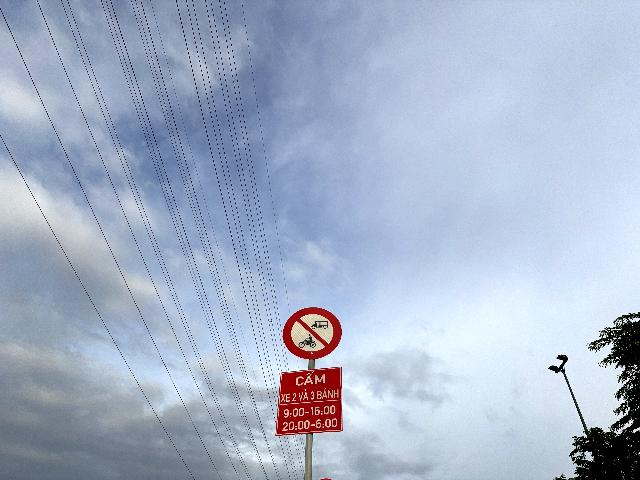cam-xe-2-banh-3-banh: (282, 307, 343, 360)
